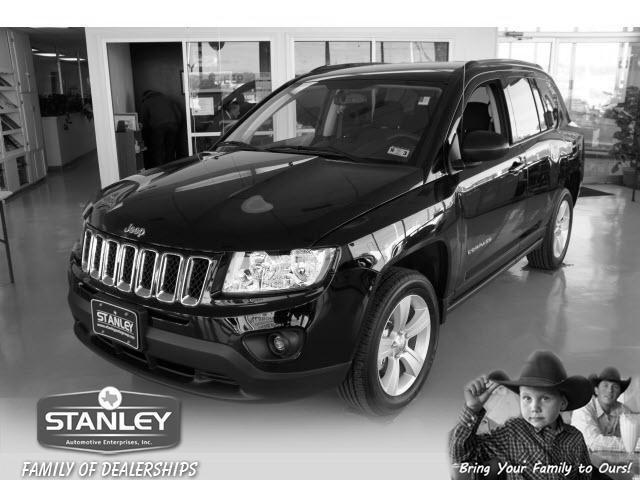car: (67, 59, 587, 417)
